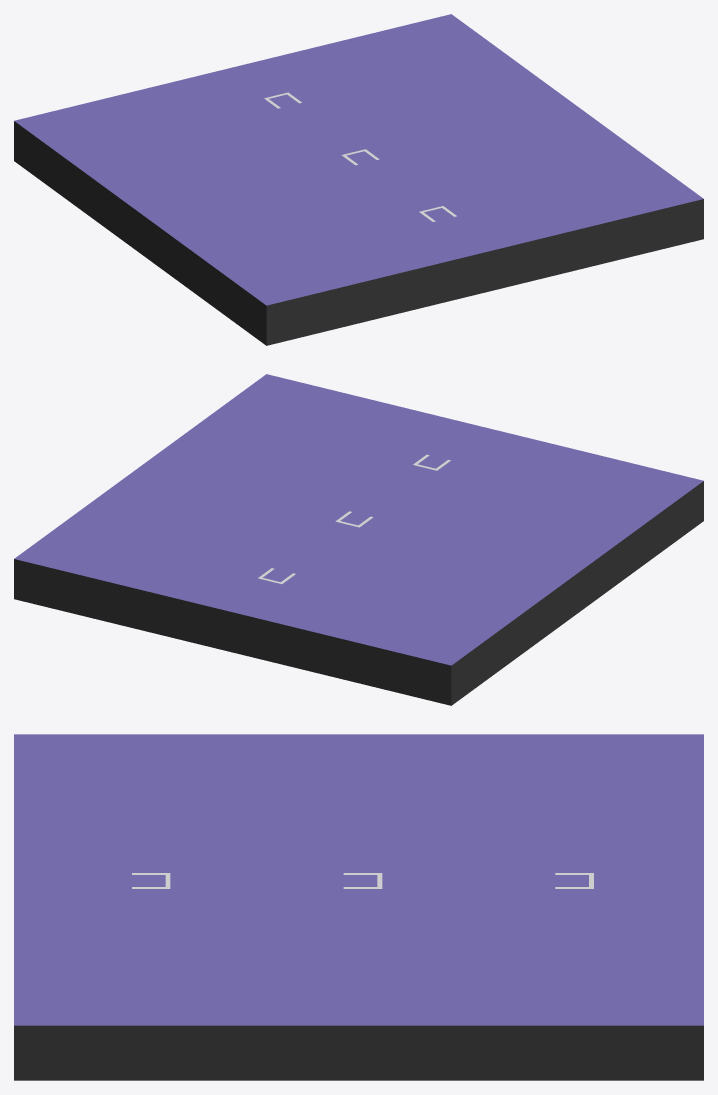
Rendered from road_1.fbx.
The picture shows the model from 3 angles, top to bottom: view 1: azimuth 30°, elevation 25°; view 2: azimuth 150°, elevation 25°; view 3: azimuth 270°, elevation 25°; orthographic projection. The views are drawn at different scales.
Parts seen in each view (by area): view 1: Road; view 2: Road; view 3: Road, Plane.
Part boxes in pixels (bbox=[...]): Road: bbox=[14, 14, 703, 345]; Road: bbox=[14, 374, 703, 705]; Road: bbox=[14, 734, 703, 1080]; Plane: bbox=[132, 873, 593, 888].
Bounding box in the file's own units: 800 × 71.68 × 800.
